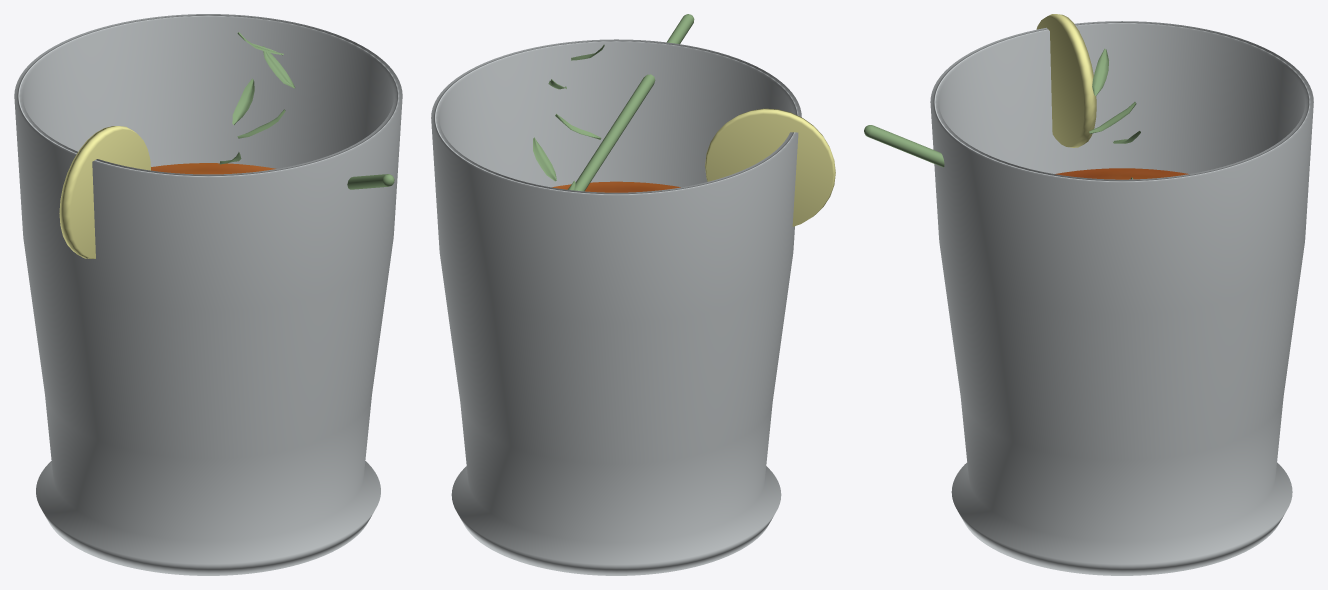
Rendered from coctel-casa.glb.
3 views of the same model, side by side, from view 1: azimuth 30°, elevation 25°; view 2: azimuth 150°, elevation 25°; view 3: azimuth 270°, elevation 25° (orthographic). The views are drawn at different scales.
Bounding box in the file's own units: 0.0953 × 0.1217 × 0.1056.
5 materials, 1 textured.
